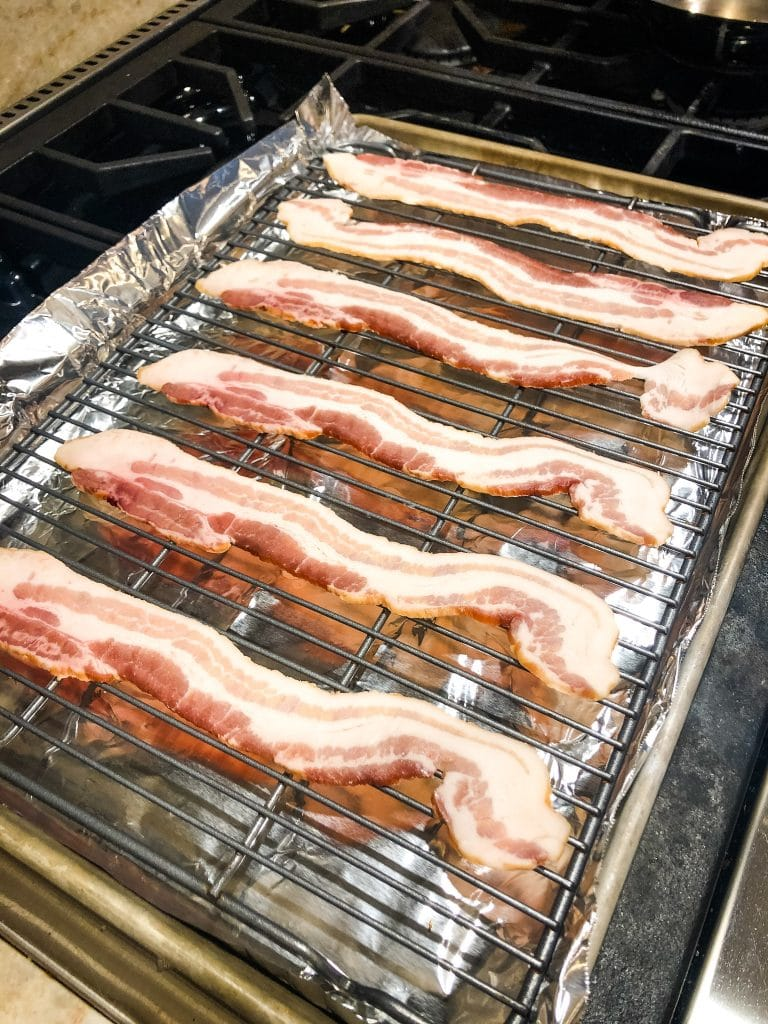bacon: (54, 414, 666, 709), (120, 285, 695, 573), (208, 165, 739, 422)
